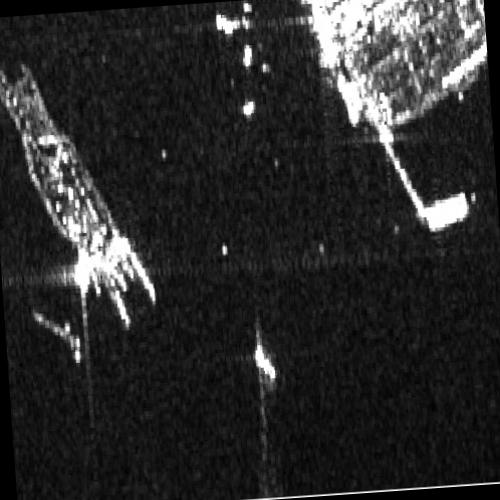ship: (423, 190, 471, 233), (253, 346, 277, 382)
